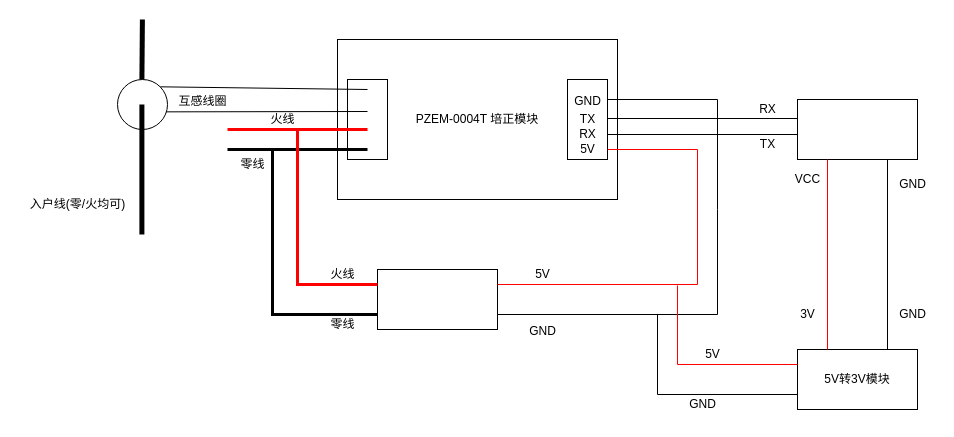
This 954x437 diagram has some shape labels left out. The box of each missing label's shape, as (x1, y1, x2, y2) in pixels:
220V转5V模块: (376, 268, 498, 330)
ESP-01S模块: (796, 98, 918, 160)
